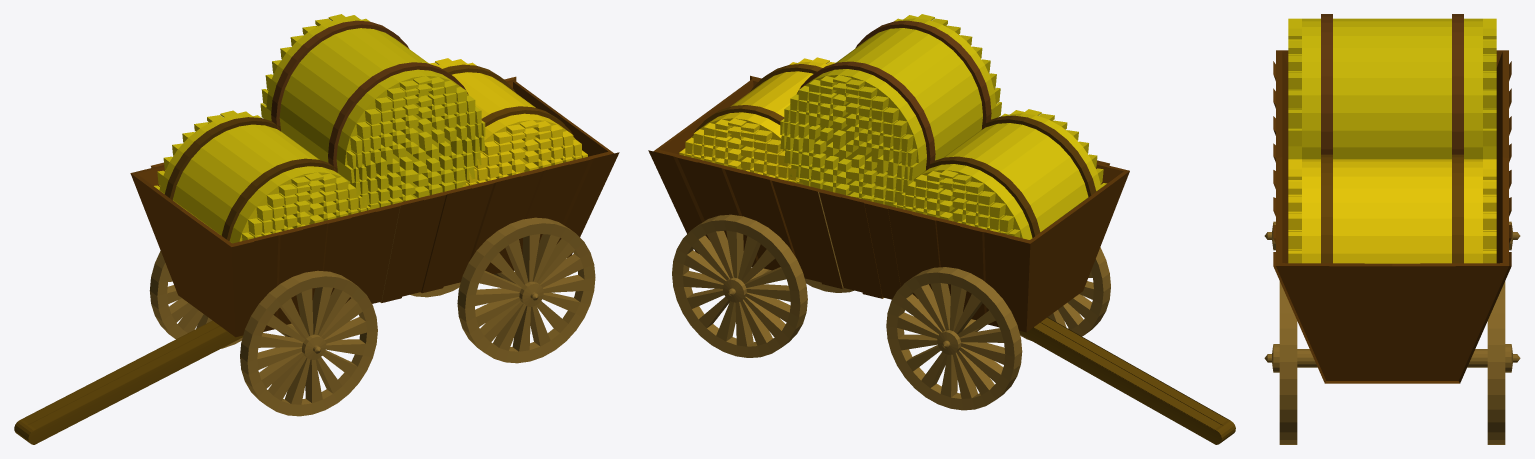
The model's file is woz.fbx.
The picture shows the model from 3 angles, left to right: view 1: azimuth 30°, elevation 25°; view 2: azimuth 150°, elevation 25°; view 3: azimuth 270°, elevation 25°; orthographic projection. The views are drawn at different scales.
Parts seen in each view (by area): view 1: woz.001, woz, snop2, snop3, snop1, Circle.001, obw2, obw3, obw1; view 2: woz.001, woz, snop2, snop3, snop1, Circle.001, obw2, obw3, obw1; view 3: woz.001, snop2, snop1, woz, obw2, obw1.
Boxes of the visible parts, x1,y1,x2,y2 form: woz.001: (130, 76, 619, 337); woz: (149, 206, 595, 416); snop2: (260, 14, 485, 208); snop3: (154, 110, 373, 243); snop1: (429, 58, 587, 186); Circle.001: (14, 320, 242, 444); obw2: (271, 20, 468, 172); obw3: (164, 117, 337, 241); obw1: (443, 64, 574, 137); woz.001: (648, 75, 1129, 332); woz: (672, 192, 1110, 410); snop2: (780, 14, 1001, 205); snop3: (891, 109, 1106, 239); snop1: (679, 57, 835, 184); Circle.001: (1019, 317, 1235, 444); obw2: (797, 20, 991, 170); obw3: (926, 115, 1096, 237); obw1: (692, 64, 822, 136); woz.001: (1273, 50, 1511, 383); snop2: (1288, 18, 1496, 159); snop1: (1288, 159, 1496, 263); woz: (1264, 221, 1520, 444); obw2: (1321, 14, 1463, 154); obw1: (1321, 154, 1463, 263).
Bounding box in the file's own units: 623 × 345 × 221.
